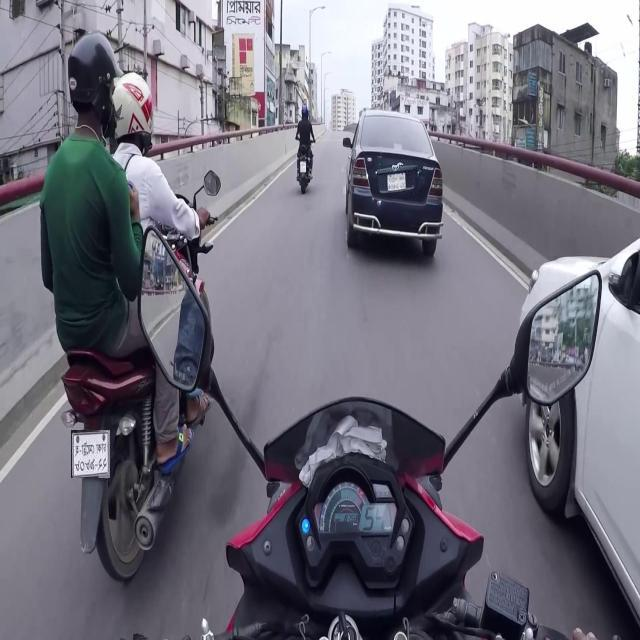numberplate: (71, 430, 110, 478), (377, 165, 419, 194), (386, 170, 410, 191)
